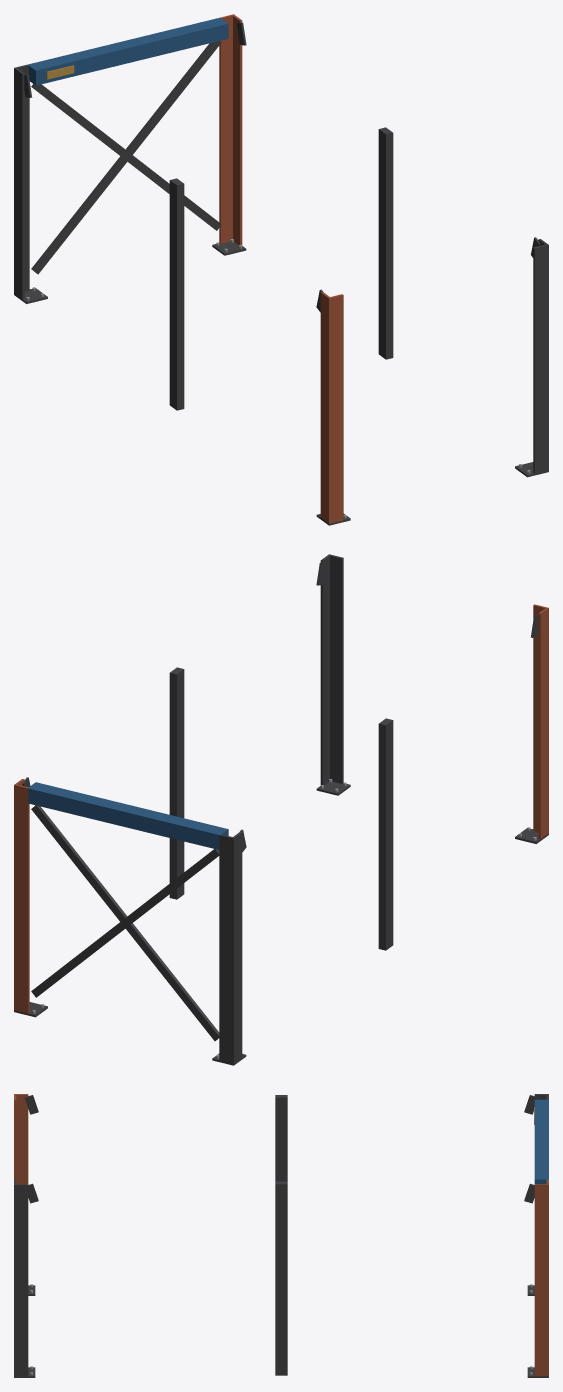
File: c20_frame.obj
3 views of the same model, one above another, from view 1: azimuth 30°, elevation 25°; view 2: azimuth 150°, elevation 25°; view 3: azimuth 270°, elevation 25° (orthographic). The views are drawn at different scales.
Visible parts, largest first — view 1: c20_frame; view 2: c20_frame; view 3: c20_frame.
Part boxes in pixels (left/top/right/bottom): c20_frame: left=14, top=14, right=548, bottom=525; c20_frame: left=14, top=554, right=548, bottom=1065; c20_frame: left=14, top=1094, right=548, bottom=1377.
Bounding box in the file's own units: 2.44 × 2.41 × 6.06.
